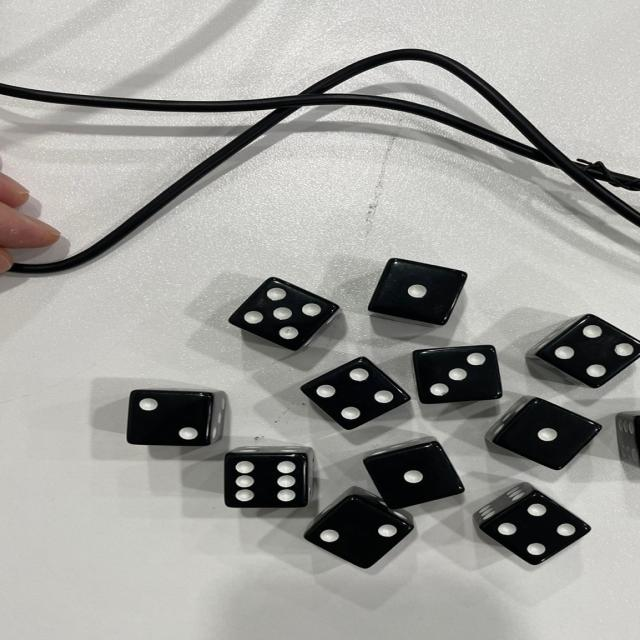DICE1: (378, 259, 470, 325), (536, 404, 605, 469), (391, 456, 494, 494)
DICE2: (94, 381, 222, 452), (328, 509, 410, 567)
DICE3: (416, 348, 518, 404)
DICE4: (483, 492, 614, 567), (527, 315, 640, 386), (305, 366, 416, 422)
DICE5: (227, 270, 347, 346)
DICE6: (216, 453, 318, 508)
